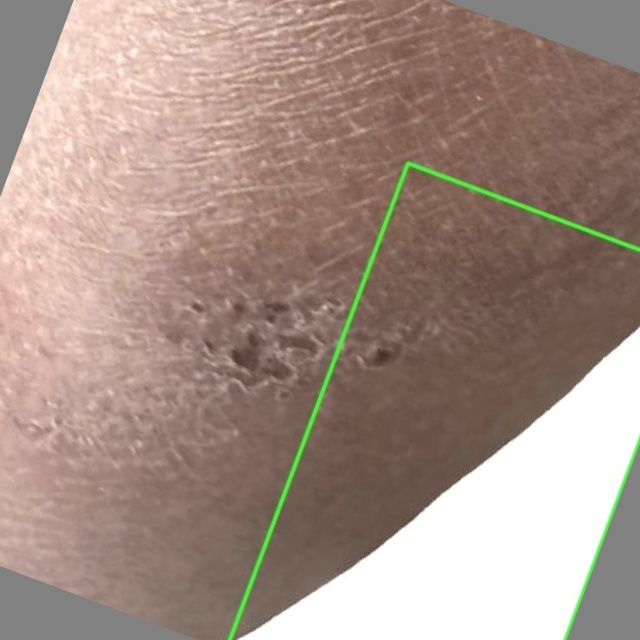Atopic Dermatitis: (229, 163, 639, 639)
